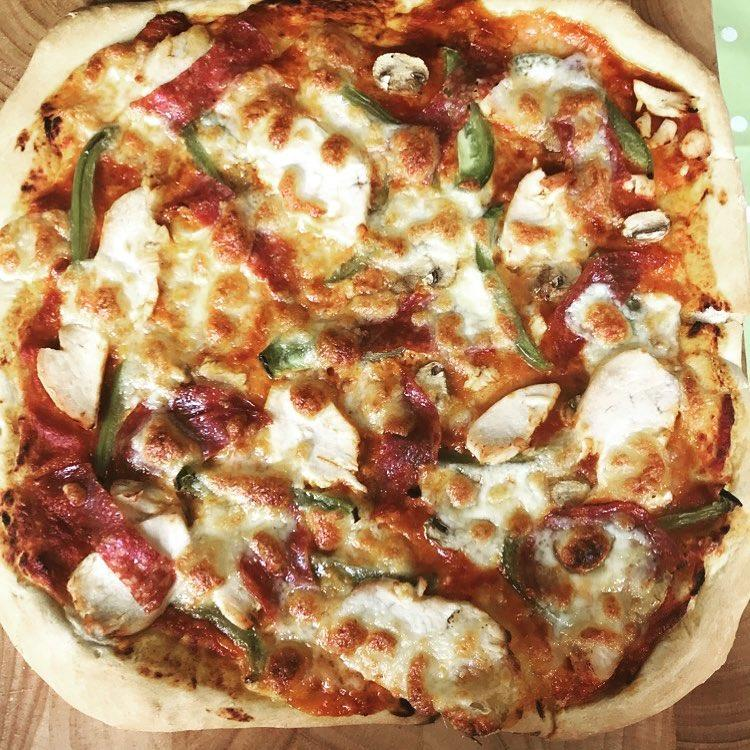Chicken: (345, 580, 505, 677), (257, 383, 366, 490), (97, 24, 216, 108), (461, 379, 560, 470), (91, 184, 167, 298), (35, 319, 109, 428)
Mushroom: (631, 78, 702, 120), (372, 52, 431, 92), (619, 206, 674, 243)
Peppers: (475, 203, 551, 370), (499, 529, 567, 632), (196, 605, 269, 688), (602, 97, 658, 182), (72, 130, 107, 263), (449, 103, 499, 193), (178, 120, 237, 192), (90, 355, 124, 476), (659, 486, 743, 534), (342, 85, 412, 133), (434, 43, 468, 80)
Pizza: (0, 0, 750, 733)
